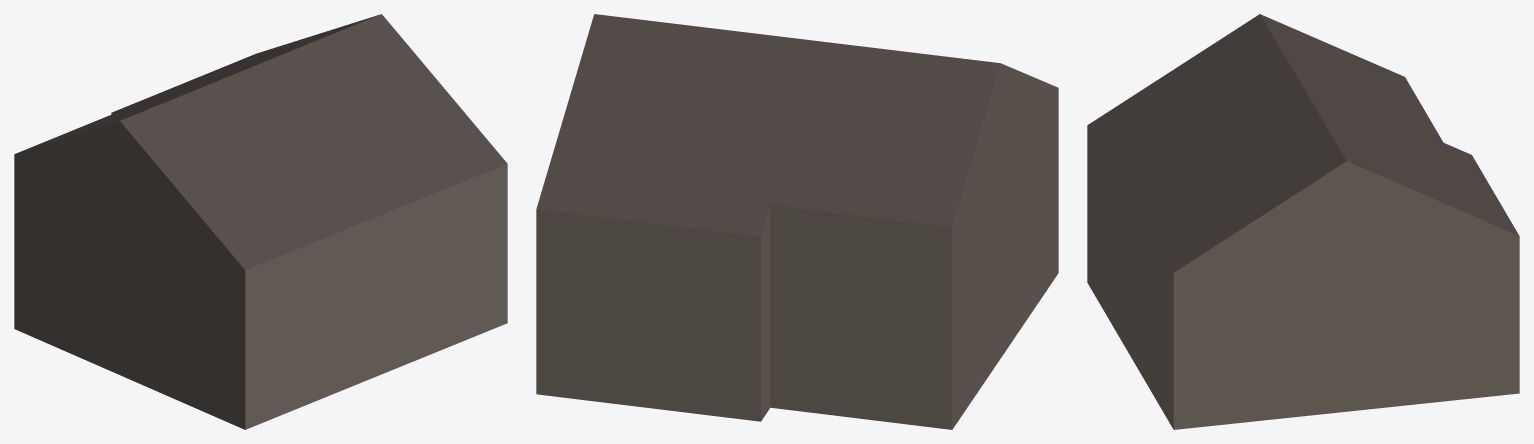
The picture shows the model from 3 angles, left to right: view 1: azimuth 30°, elevation 25°; view 2: azimuth 150°, elevation 25°; view 3: azimuth 270°, elevation 25°; orthographic projection. The views are drawn at different scales.
Visible parts, largest first — view 1: HP-w299011343; view 2: HP-w299011343; view 3: HP-w299011343.
Part boxes in pixels (x1,y1,x2,y2): HP-w299011343: (14,14,507,429); HP-w299011343: (536,14,1058,429); HP-w299011343: (1087,14,1519,429).
Bounding box in the file's own units: 22.2 × 14.35 × 22.43.
